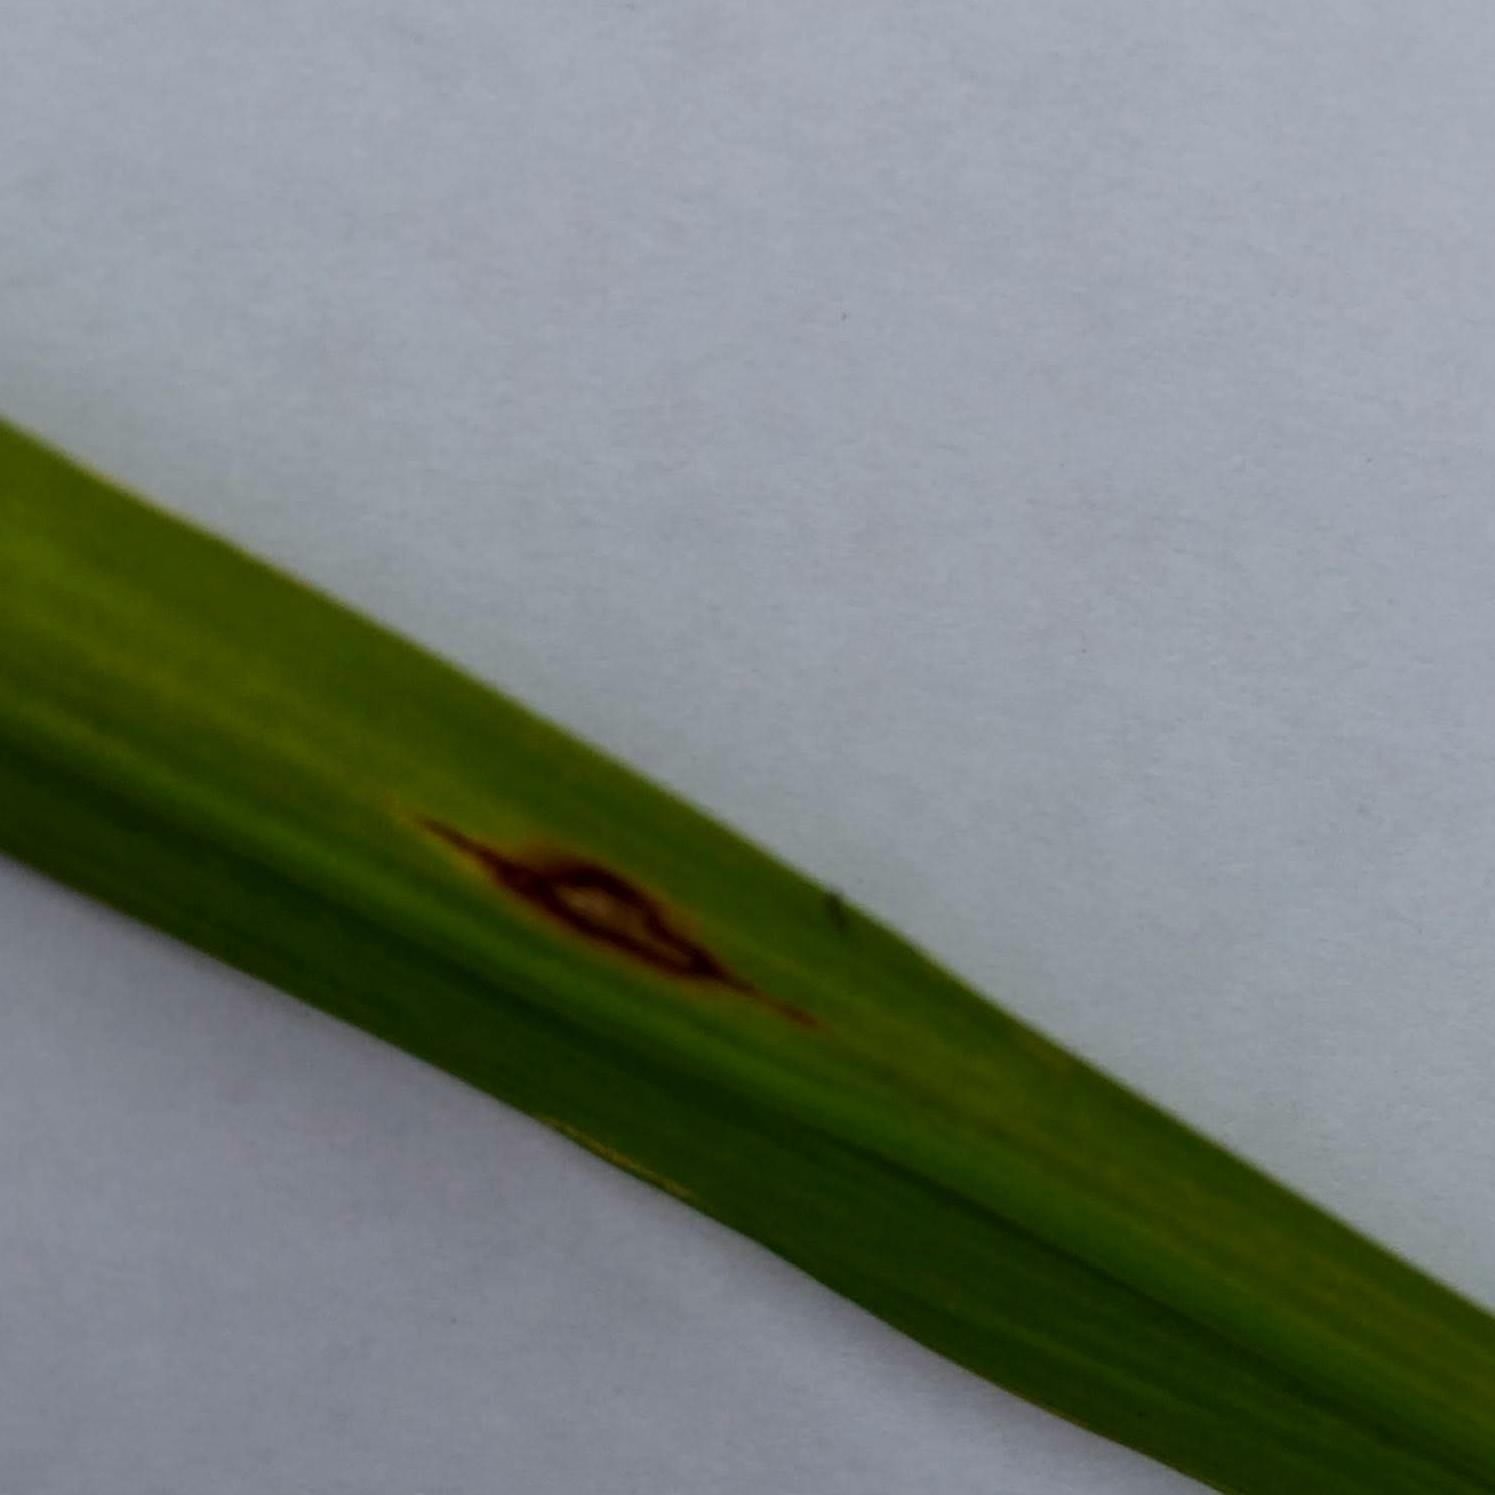1 RiceBlast: (386, 669, 850, 1077)
